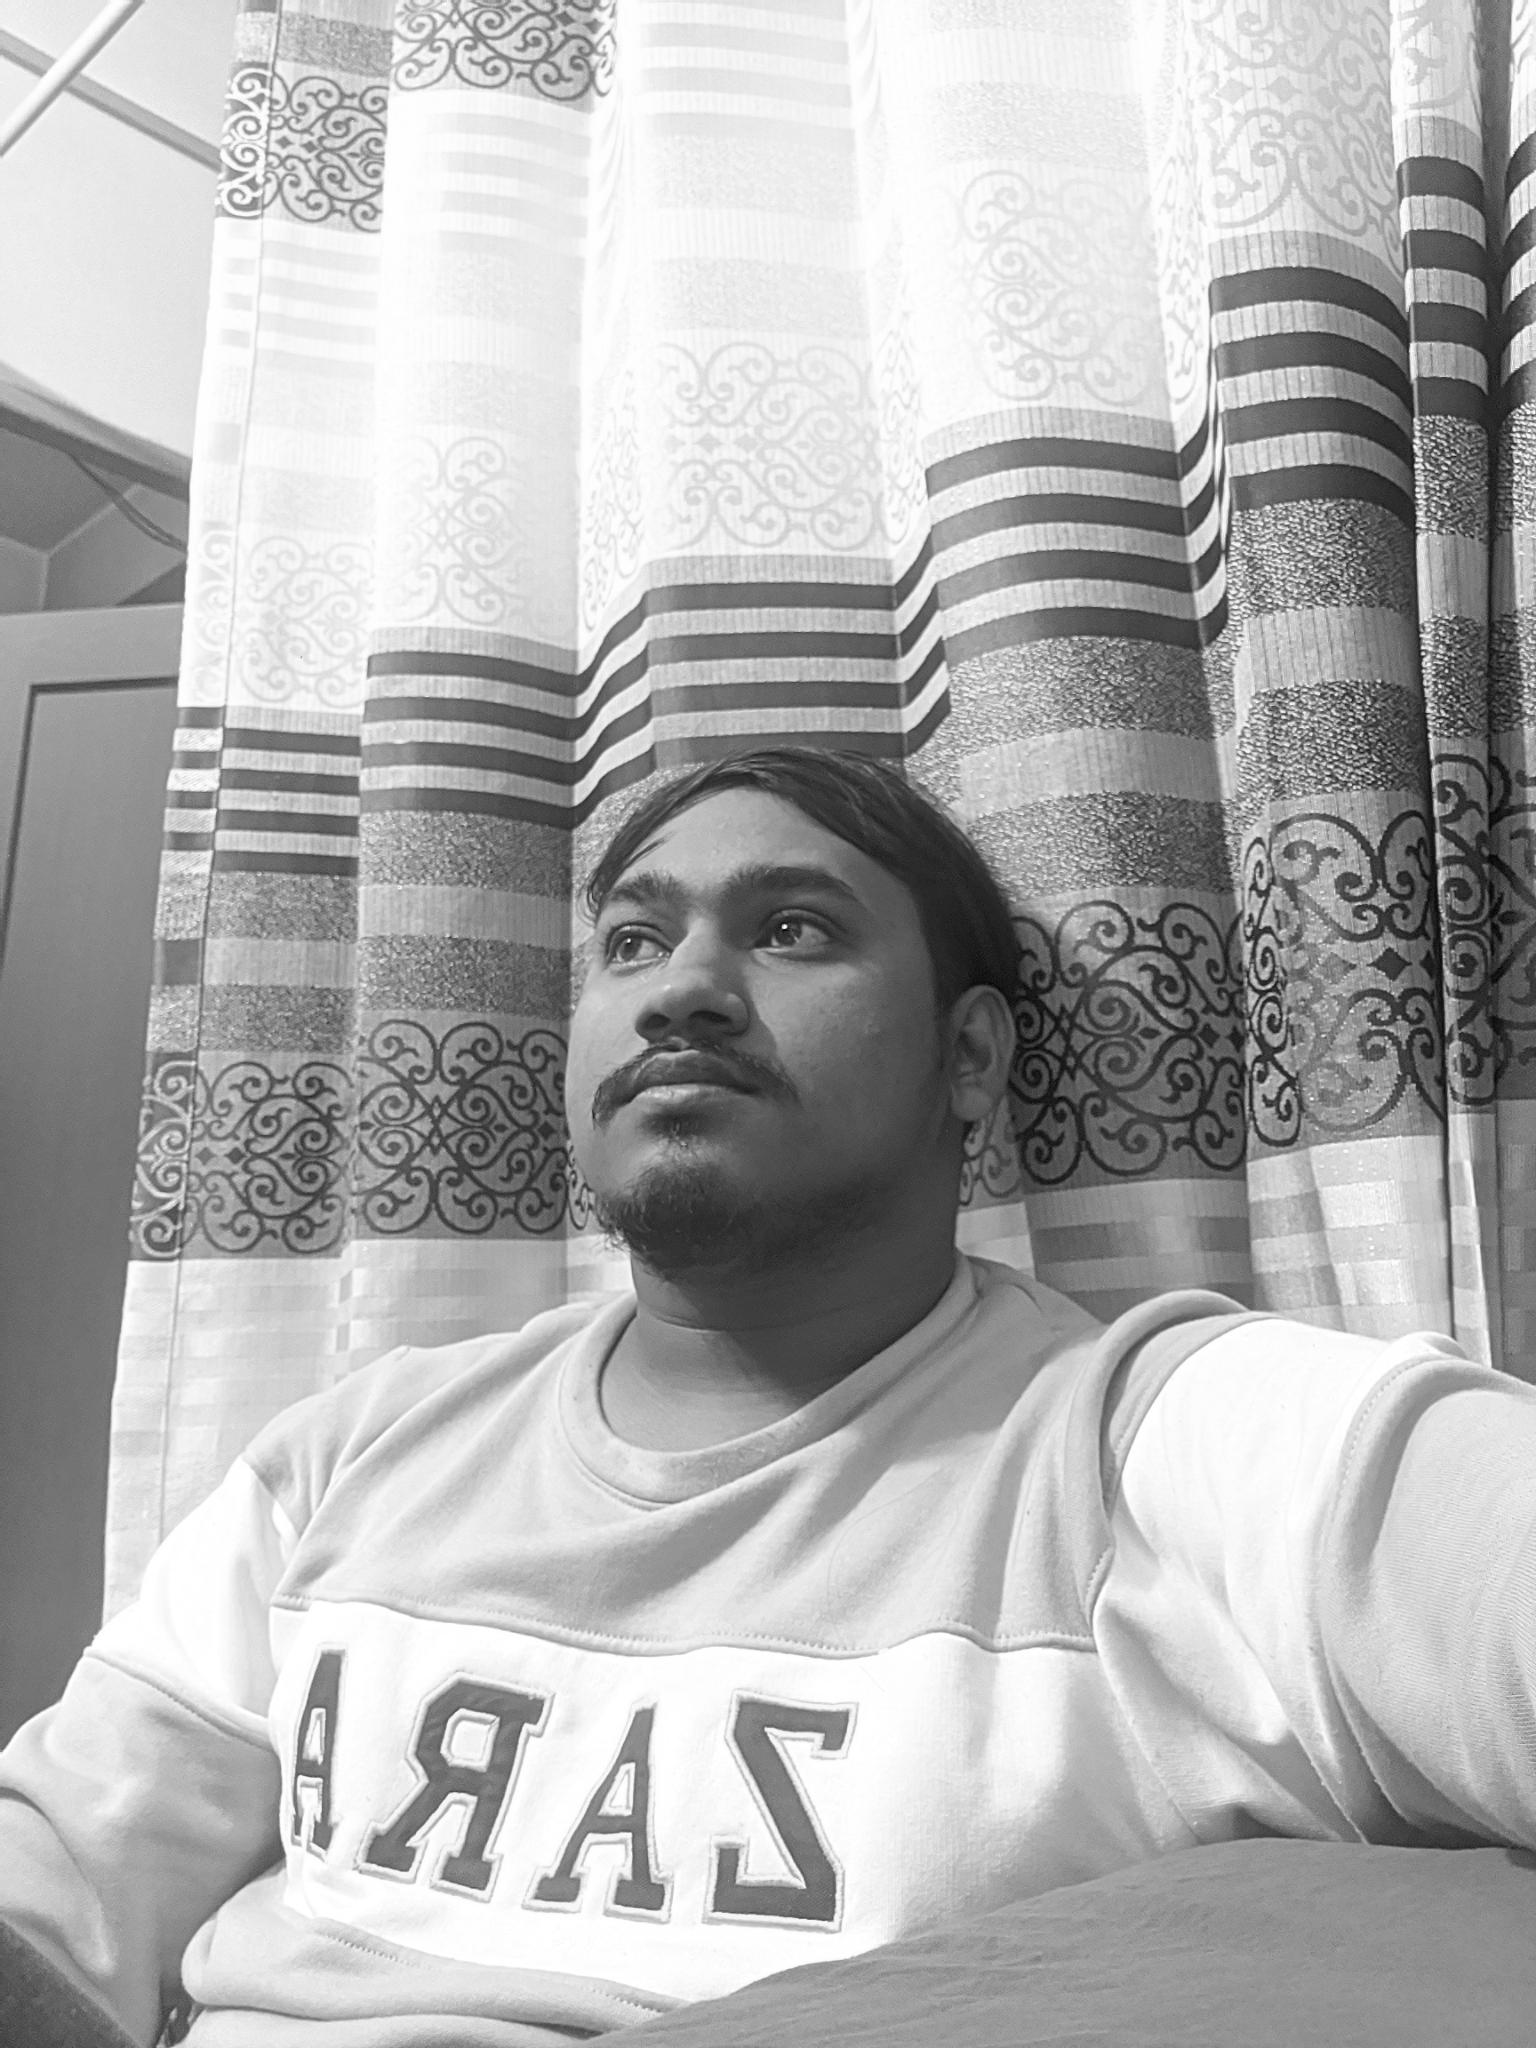Neutral: (565, 837, 884, 1226)
